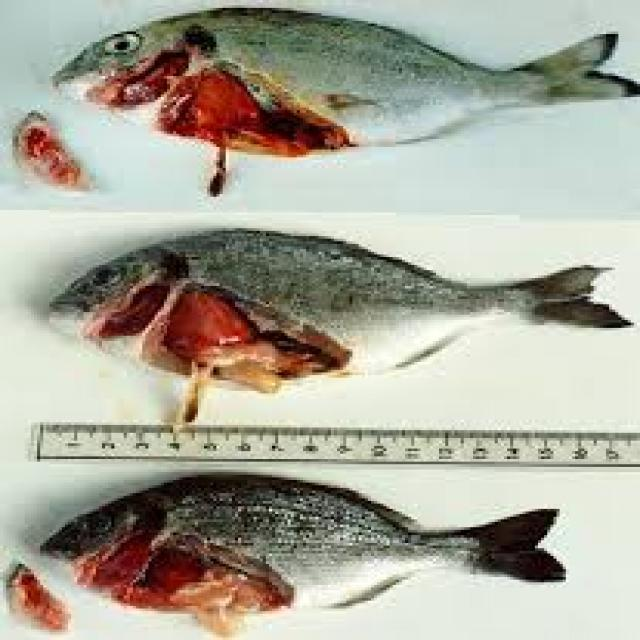EUS Disease: (2, 233, 634, 423), (6, 11, 640, 200), (0, 467, 566, 640), (8, 9, 386, 203), (40, 228, 404, 429), (9, 474, 377, 638)
